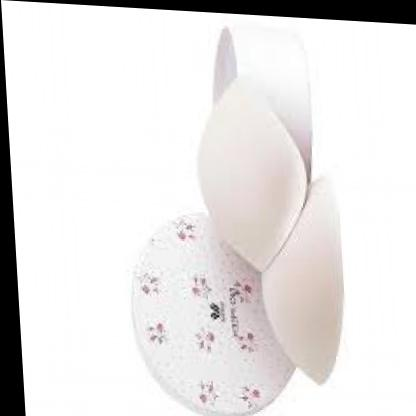Miscellaneous: (53, 2, 390, 416)
